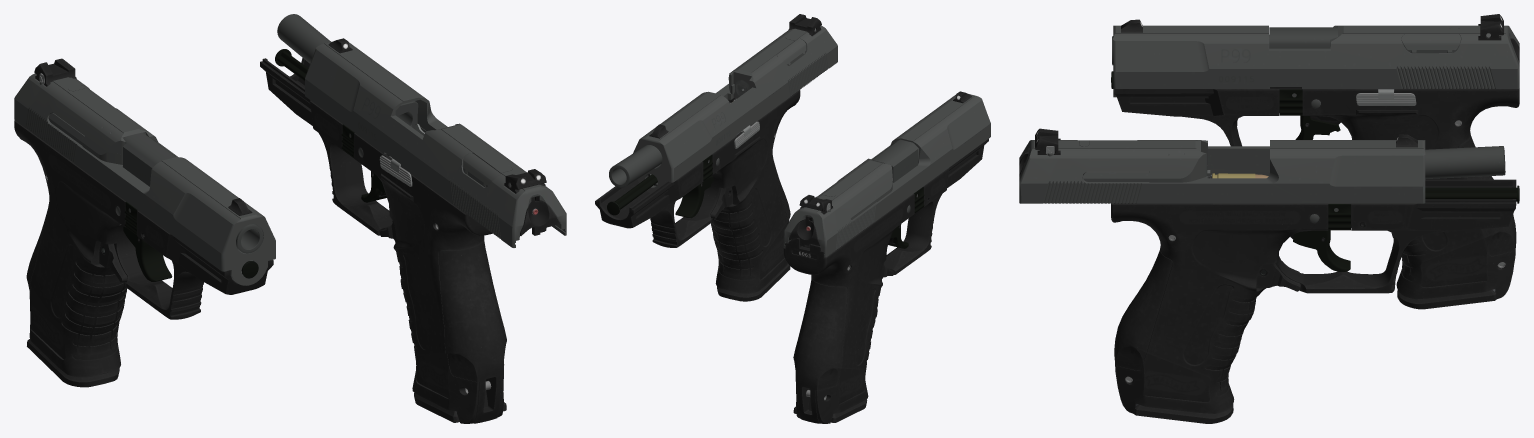
Rendered from walther-p99.glb.
3 renders of one model, left to right at view 1: azimuth 30°, elevation 25°; view 2: azimuth 150°, elevation 25°; view 3: azimuth 270°, elevation 25°, orthographic. The views are drawn at different scales.
Parts seen in each view (by area): view 1: body_low.005, body_low.004, slide_low.004, slide_low.005, bodyBack_low.004, barrel_low.005, barrel_low.004, trigger_low.005, magazineDown_low.005, extractor_low.005, slideEndCap_low.004, decocker_low.004 (+5 smaller); view 2: body_low.004, body_low.005, slide_low.004, slide_low.005, bodyBack_low.005, barrel_low.004, barrel_low.005, trigger_low.004, recoilGuideRod_low.004, magazineDown_low.004, slideEndCap_low.005, decocker_low.004 (+3 smaller); view 3: body_low.004, slide_low.004, slide_low.005, body_low.005, bodyBack_low.004, barrel_low.004, barrel_low.005, extractor_low.004, recoilGuideRod_low.004, decocker_low.005, bodyBack_low.005, trigger_low.004 (+9 smaller).
Boxes of the visible parts, box(x1,y1,x2,y2) form: body_low.005: box(14, 120, 273, 377); body_low.004: box(260, 58, 503, 423); slide_low.004: box(305, 42, 566, 247); slide_low.005: box(14, 73, 275, 285); bodyBack_low.004: box(438, 240, 506, 423); barrel_low.005: box(123, 132, 263, 253); barrel_low.004: box(277, 14, 418, 129); trigger_low.005: box(123, 226, 172, 281); magazineDown_low.005: box(27, 339, 119, 387); extractor_low.005: box(48, 113, 122, 164); slideEndCap_low.004: box(520, 196, 559, 235); decocker_low.004: box(463, 153, 512, 187); body_low.004: box(595, 90, 800, 293); body_low.005: box(783, 139, 988, 423); slide_low.004: box(633, 25, 837, 192); slide_low.005: box(783, 94, 990, 257); bodyBack_low.005: box(793, 278, 847, 423); barrel_low.004: box(609, 145, 662, 187); barrel_low.005: box(872, 139, 918, 182); trigger_low.004: box(675, 176, 713, 218); recoilGuideRod_low.004: box(607, 174, 657, 215); magazineDown_low.004: box(717, 263, 790, 301); slideEndCap_low.005: box(789, 216, 820, 246); decocker_low.004: box(777, 36, 806, 65); body_low.004: box(1111, 179, 1516, 413); slide_low.004: box(1019, 140, 1425, 203); slide_low.005: box(1113, 25, 1519, 97); body_low.005: box(1114, 87, 1519, 299); bodyBack_low.004: box(1114, 248, 1172, 387); barrel_low.004: box(1425, 146, 1505, 179); barrel_low.005: box(1112, 27, 1337, 65); extractor_low.004: box(1083, 165, 1207, 182); recoilGuideRod_low.004: box(1425, 185, 1519, 203); decocker_low.005: box(1401, 27, 1460, 53); bodyBack_low.005: box(1458, 133, 1516, 271); trigger_low.004: box(1293, 230, 1350, 271).
Size of the model in its own units: 0.1487 by 0.1357 by 0.2215.
2 materials, 2 textured.
